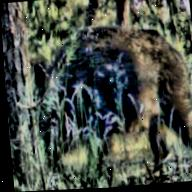boar: (28, 9, 192, 176)
